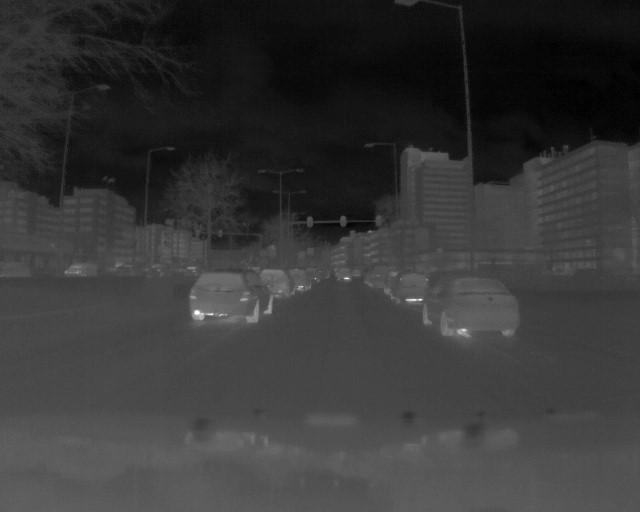car: (419, 276, 520, 337), (190, 269, 276, 325), (389, 270, 433, 307), (259, 269, 296, 297), (334, 268, 353, 282)
